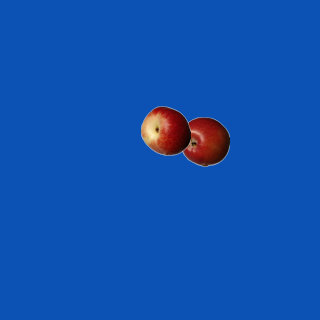Apple Braeburn: (179, 116, 229, 166)
Nectarine: (140, 105, 190, 155)
